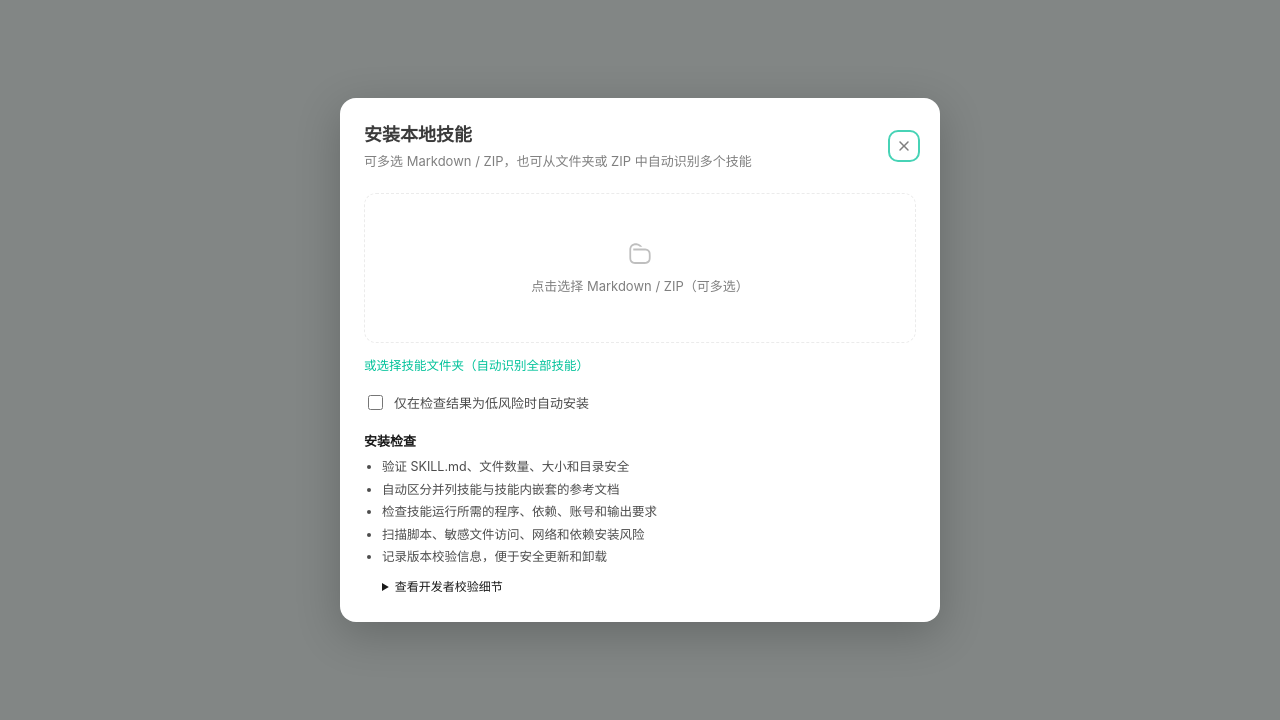
Test: ImportSkillModal — 列表型批量安装 › 批量 inspect 最多 3 路并发且立即展示完整队列
This screenshot has width=1280, height=720.
Click the button with aria-label "选择 Markdown 或 ZIP 技能文件" at (640, 268), box [364, 193, 916, 343]
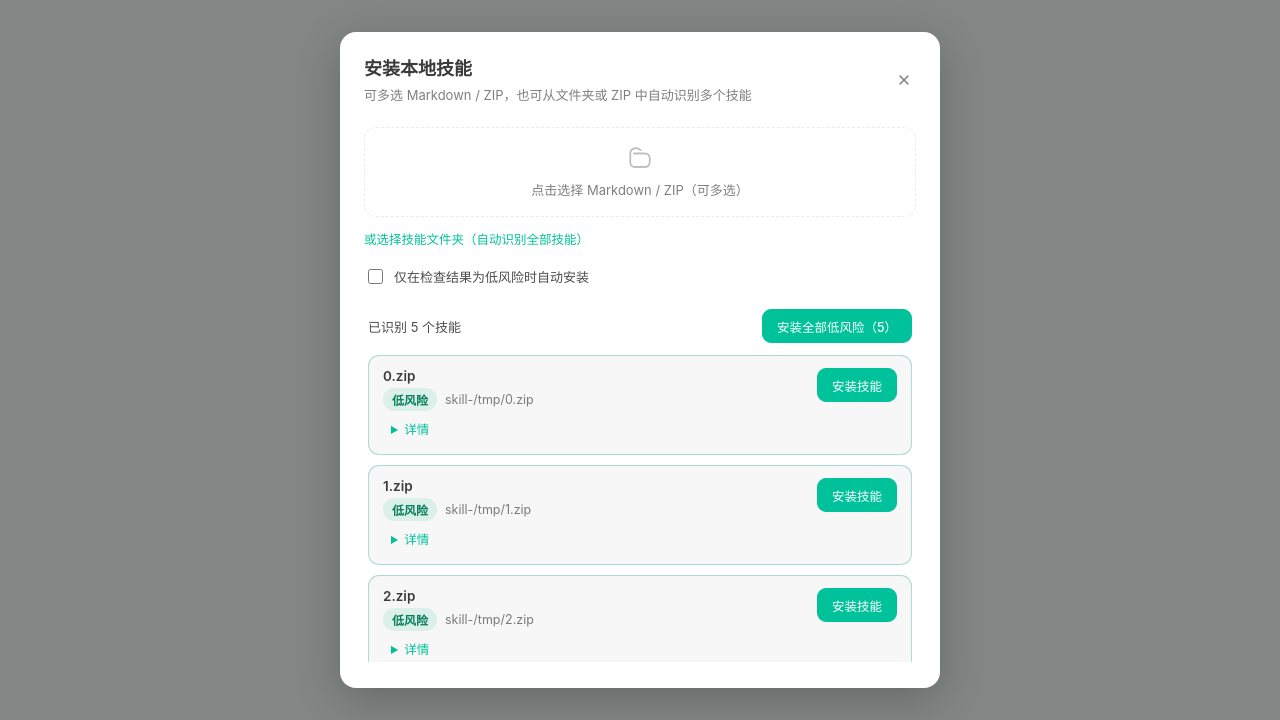
Expected: the text "正在识别技能，当前 5 项" is shown, [368, 317, 461, 336]
